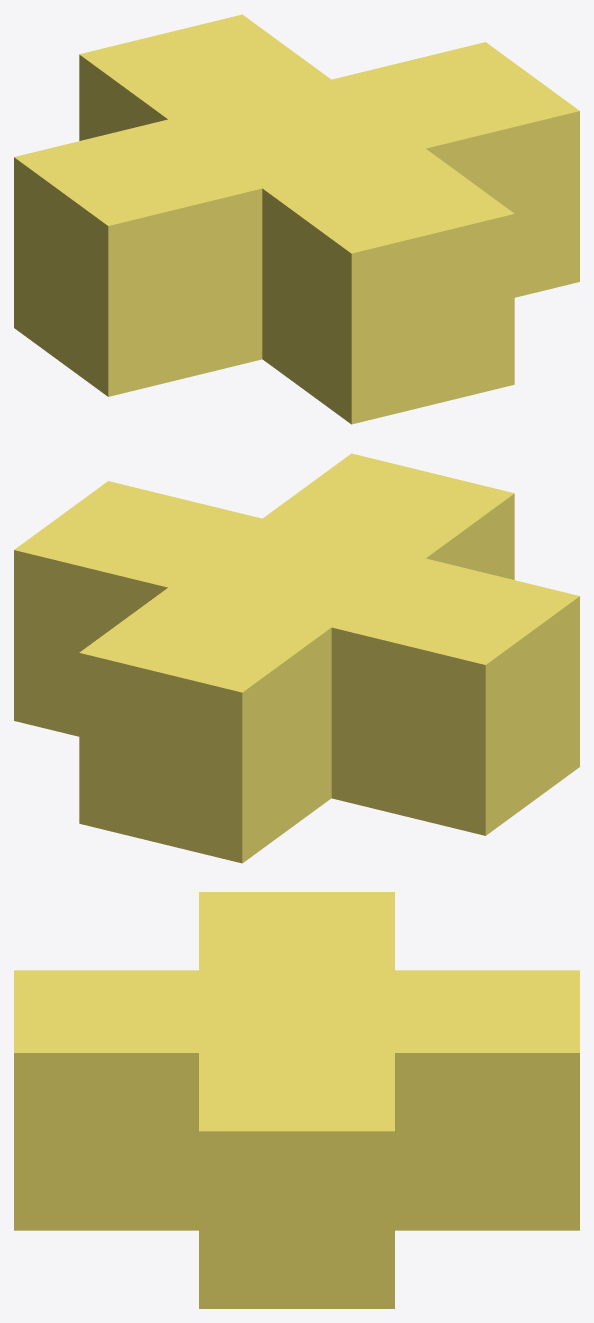
File: cross.glb
3 views of the same model, one above another, from view 1: azimuth 30°, elevation 25°; view 2: azimuth 150°, elevation 25°; view 3: azimuth 270°, elevation 25° (orthographic). The views are drawn at different scales.
Size of the model in its own units: 26 by 9 by 26.
